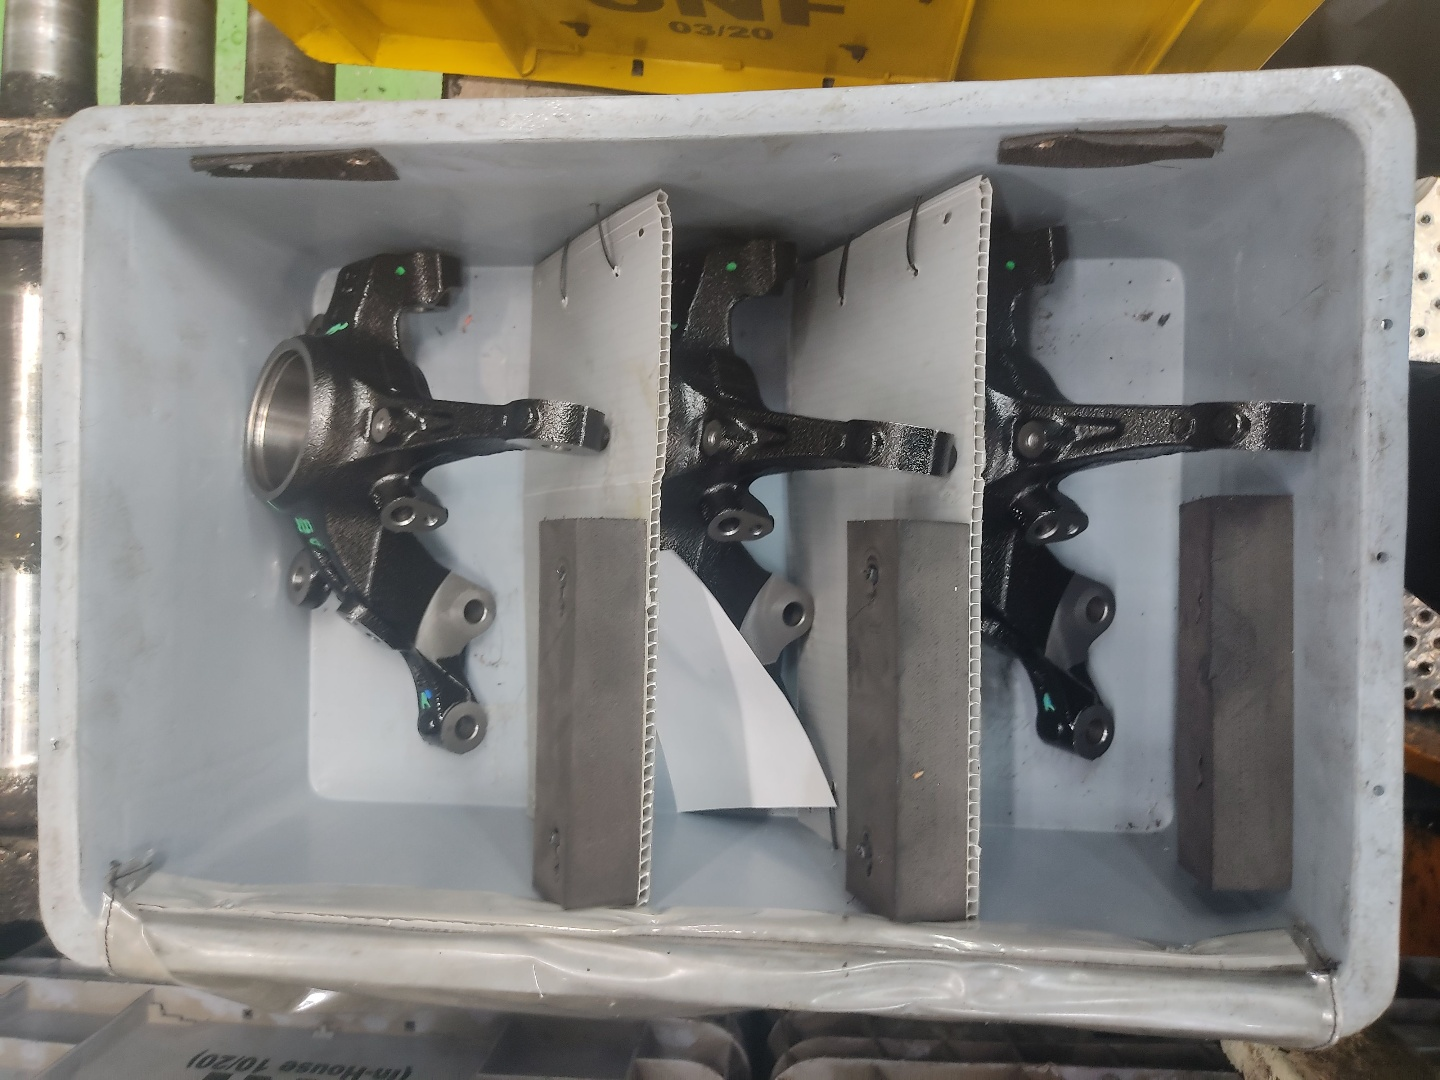abs-rh: (236, 241, 624, 759), (976, 214, 1325, 771), (654, 223, 962, 753)
